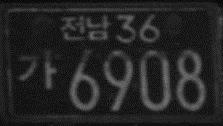0: (139, 48, 170, 111)
3: (115, 13, 137, 44)
6: (67, 47, 99, 112), (139, 13, 161, 44)
8: (174, 48, 206, 113)
9: (102, 49, 133, 113)
가: (16, 47, 58, 91)
전남_O: (59, 14, 112, 42)
